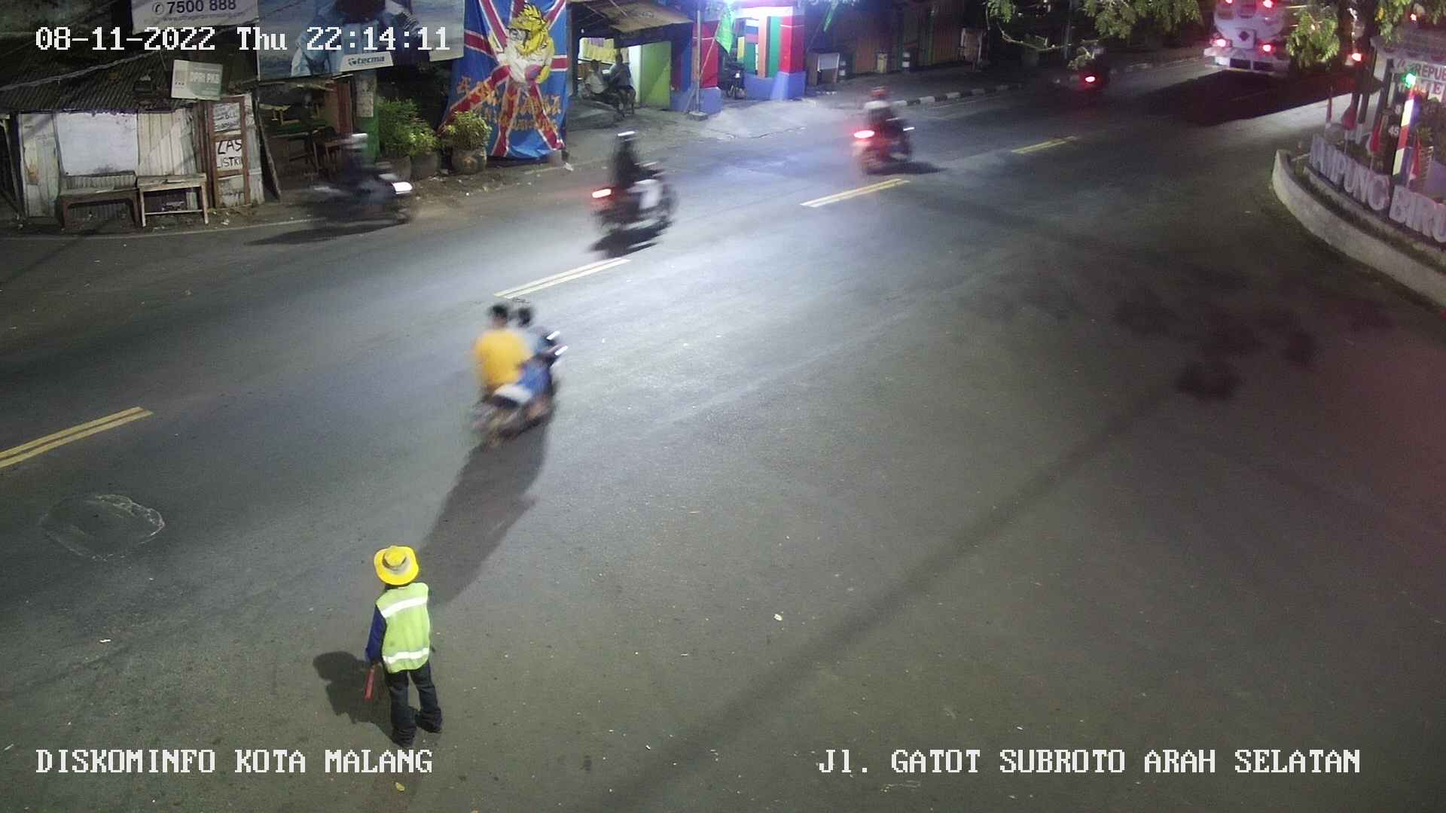without_helmet: (466, 286, 575, 447), (581, 117, 694, 248), (851, 73, 925, 183)
